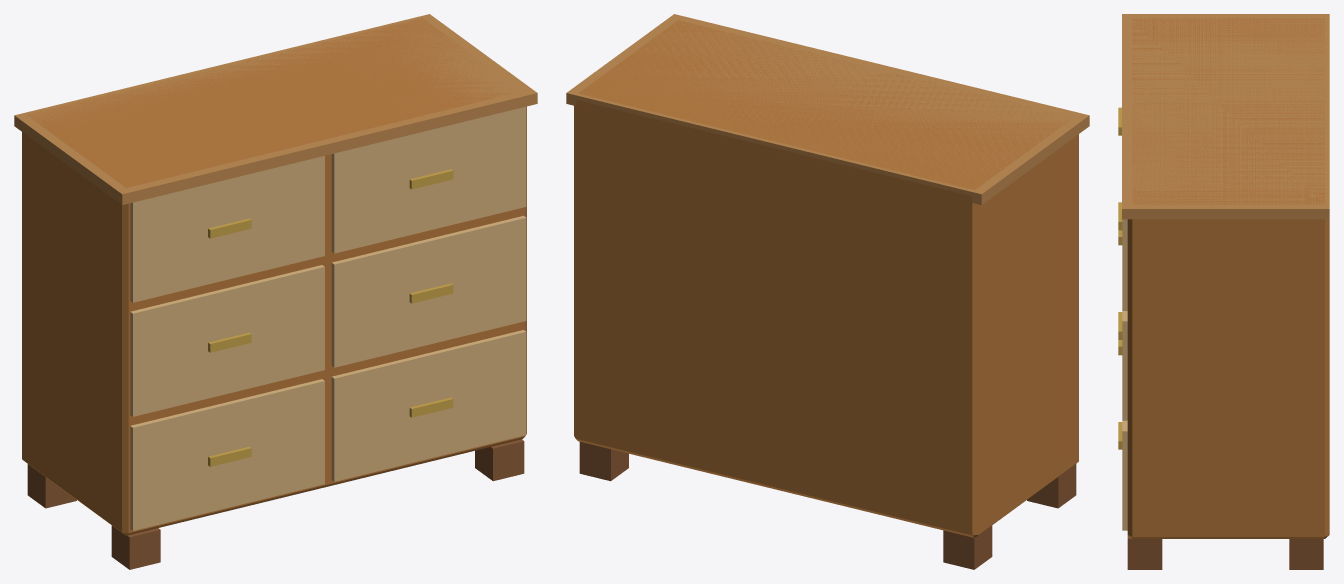
File: FUR_Dresser.fbx
3 views of the same model, side by side, from view 1: azimuth 30°, elevation 25°; view 2: azimuth 150°, elevation 25°; view 3: azimuth 270°, elevation 25° (orthographic). The views are drawn at different scales.
Visible parts, largest first — view 1: FUR_Dresser; view 2: FUR_Dresser; view 3: FUR_Dresser.
Part boxes in pixels (x1,y1,x2,y2): FUR_Dresser: (14,14,537,569); FUR_Dresser: (566,14,1089,569); FUR_Dresser: (1118,14,1329,569).
Bounding box in the file's own units: 4 × 3.5 × 1.83.
